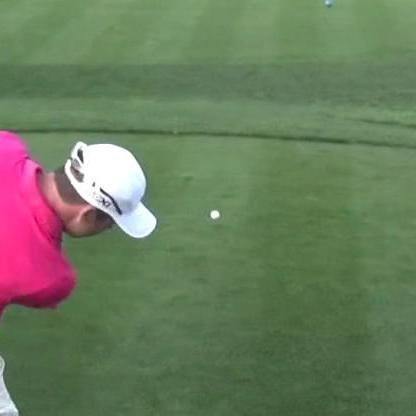golfball: (208, 208, 218, 220)
